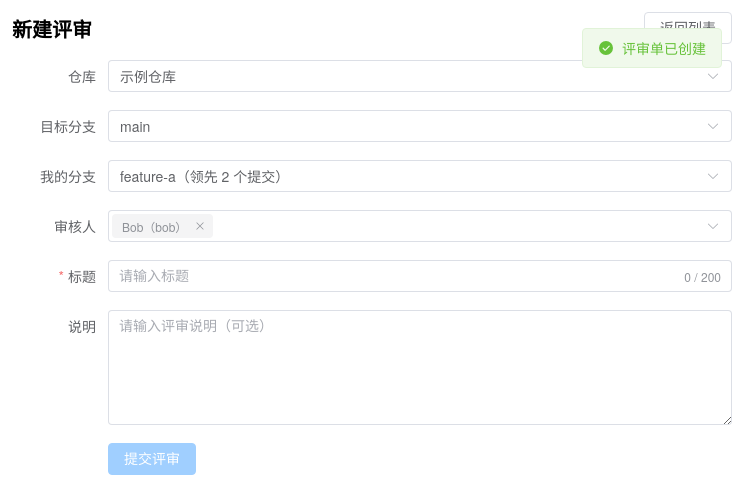
Test: 新建评审视图 › 未选仓库、我的分支和审核人时提交按钮禁用，补齐标题后启用
The image size is (749, 492).
Expected: the button with class "submit-button" is disabled, [108,443,196,475]
Type "补充说明" into the field with placeholder "请输入标题".
click(394, 276); type("补充说明")  # box [119,261,668,291]
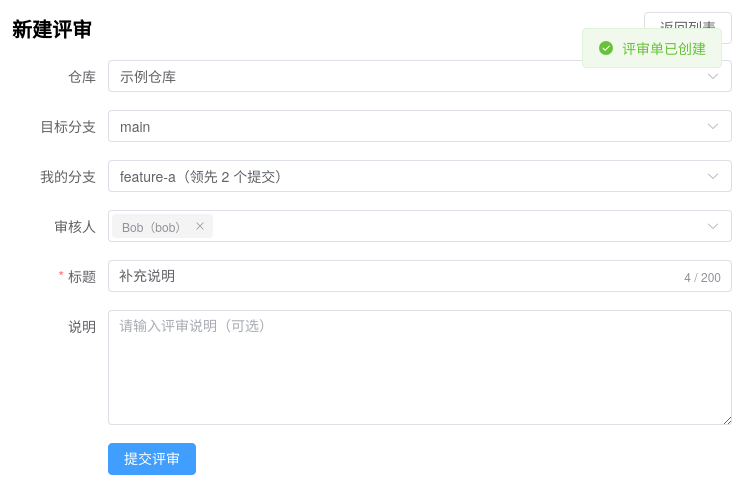
Result: the button with class "submit-button" is enabled at [108,443,196,475]
